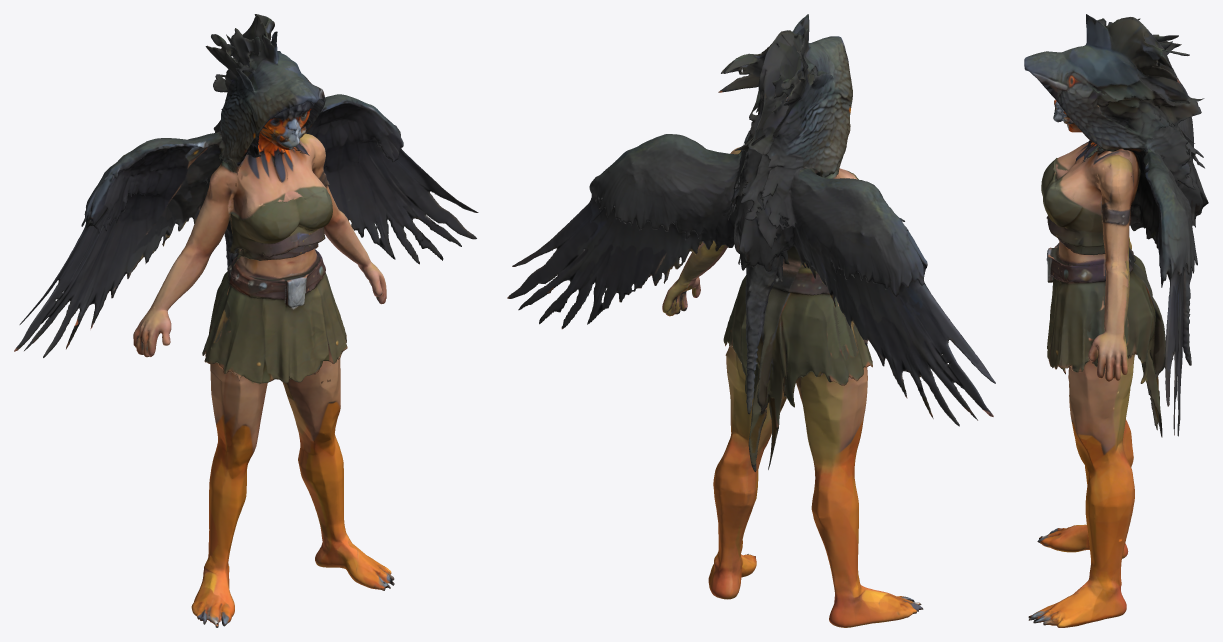
Rendered from LowPolyBirdSma.fbx.
The picture shows the model from 3 angles, left to right: view 1: azimuth 30°, elevation 25°; view 2: azimuth 150°, elevation 25°; view 3: azimuth 270°, elevation 25°; orthographic projection. The views are drawn at different scales.
Visible parts, largest first — view 1: input; view 2: input; view 3: input.
Boxes of the visible parts, box(x1,y1,x2,y2) form: input: box(14, 14, 478, 627); input: box(507, 14, 995, 627); input: box(1024, 14, 1208, 627).
Bounding box in the file's own units: 86.69 × 100 × 29.52.
1 material, 1 textured.
